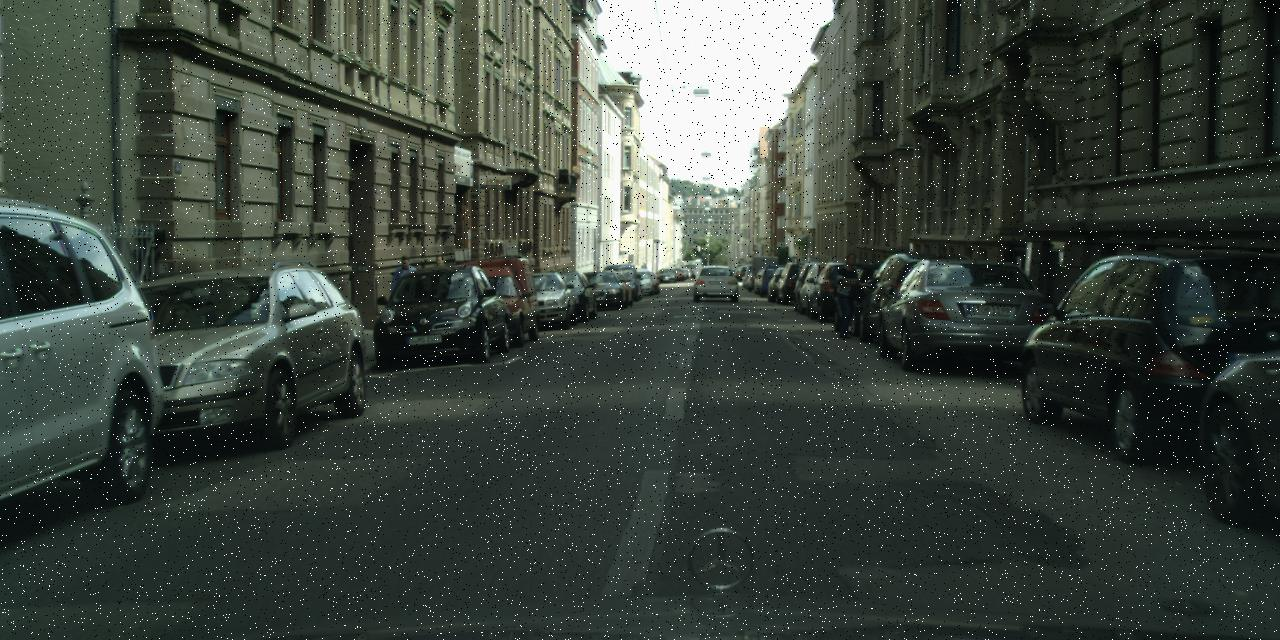ped: (830, 254, 863, 336), (391, 255, 419, 322), (428, 255, 452, 313), (784, 258, 794, 282)
